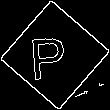P_N: (35, 28, 75, 82)
